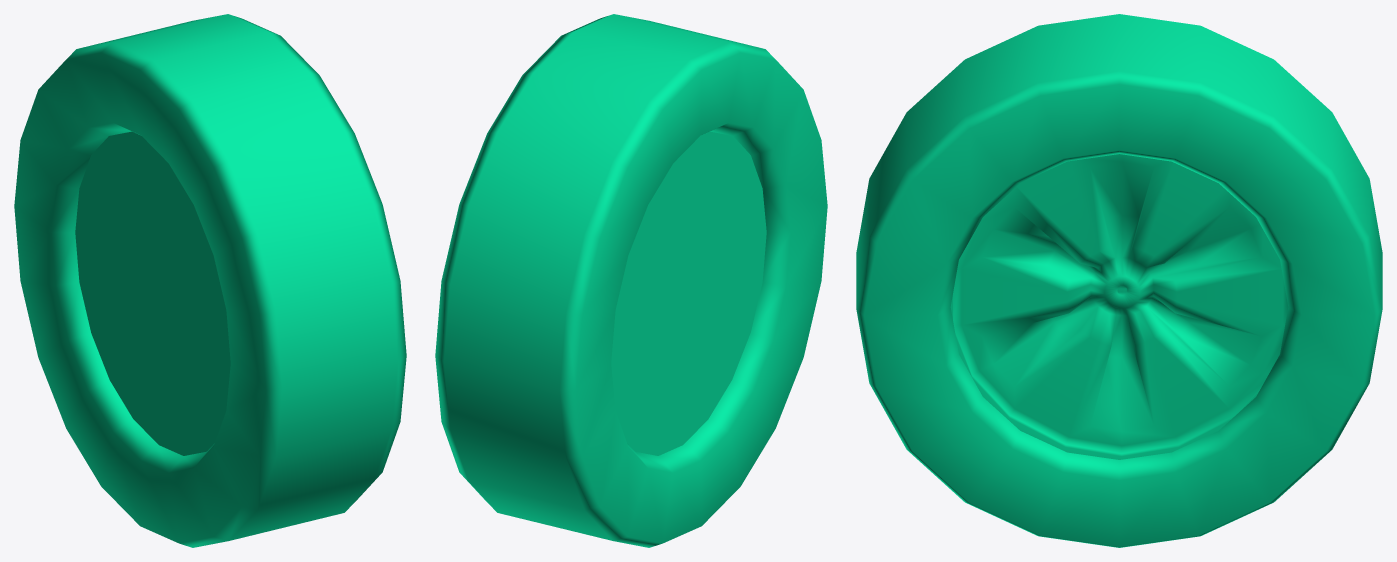
Rendered from PickUp_Wheel_02.fbx.
The picture shows the model from 3 angles, left to right: view 1: azimuth 30°, elevation 25°; view 2: azimuth 150°, elevation 25°; view 3: azimuth 270°, elevation 25°; orthographic projection.
Parts seen in each view (by area): view 1: PickUp_Wheel_02; view 2: PickUp_Wheel_02; view 3: PickUp_Wheel_02.
Part boxes in pixels (box(x1,y1,x2,y2)): PickUp_Wheel_02: box(14, 14, 406, 547); PickUp_Wheel_02: box(435, 14, 827, 547); PickUp_Wheel_02: box(856, 14, 1382, 547).
Size of the model in its own units: 26.23 by 83.71 by 83.72.
